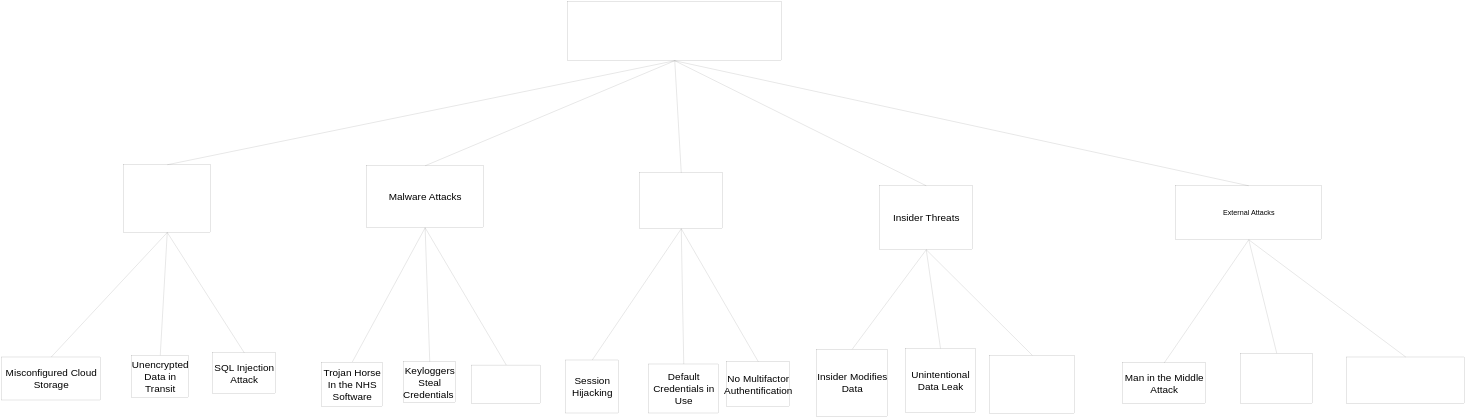
Some shapes in this 1467 by 418 pixel diagram are drawn without their labels. The box of each missing label's shape, as (x1, y1, x2, y2) in pixels:
Brute Force Attack: (1241, 353, 1313, 403)
Disclosure of Patient Data: (568, 2, 782, 61)
Disgruntled Employee Sells Data: (990, 355, 1075, 414)
Network & Database Exploits: (124, 165, 211, 232)
Phishing Emails: (1347, 357, 1465, 404)
Ransomware Locks Records: (472, 365, 541, 403)
Weak access control: (640, 173, 723, 229)
